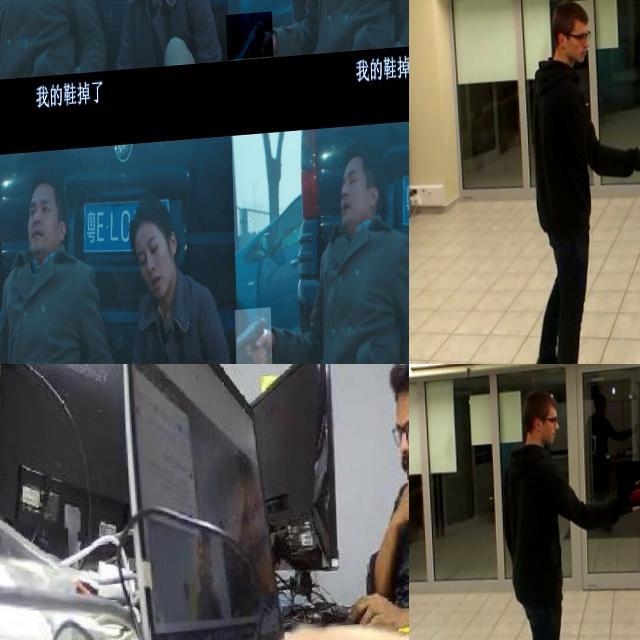gun-knife-thesis - v11 Yolov5 augmented: (224, 18, 272, 66), (231, 313, 268, 364), (614, 466, 640, 514), (0, 43, 22, 91)
